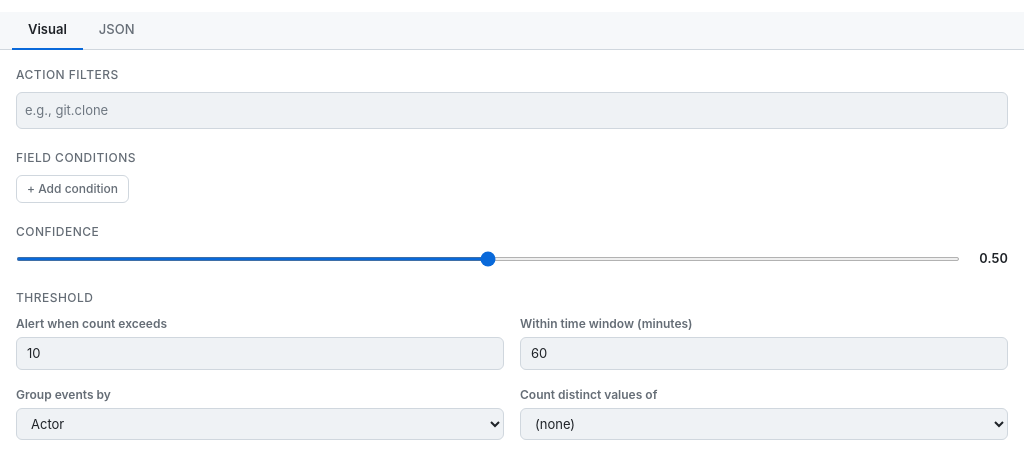
RuleConfigEditorContainer › switches to JSON mode when JSON tab is clicked
Click the button with test id "mode-json": x=117, y=31 [83,12,150,50]
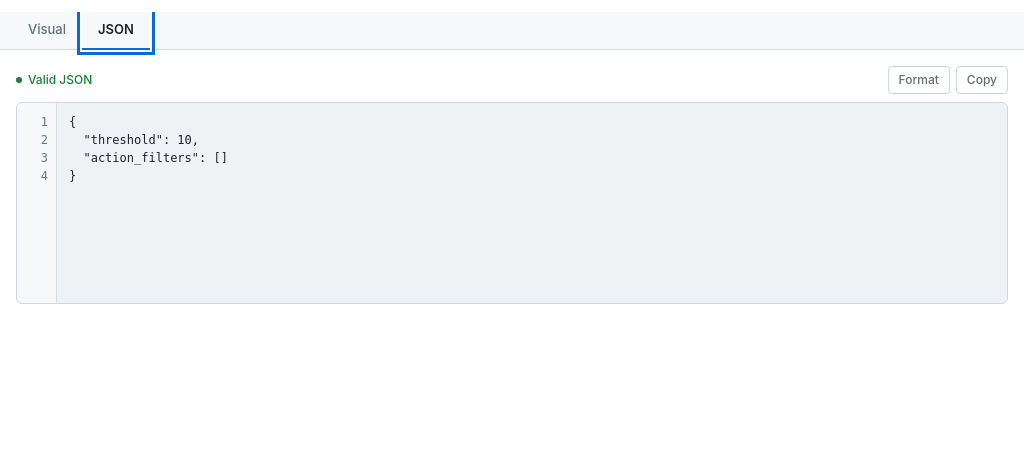
Expected: the text box with test id "json-textarea" is shown, [57,102,1007,302]
